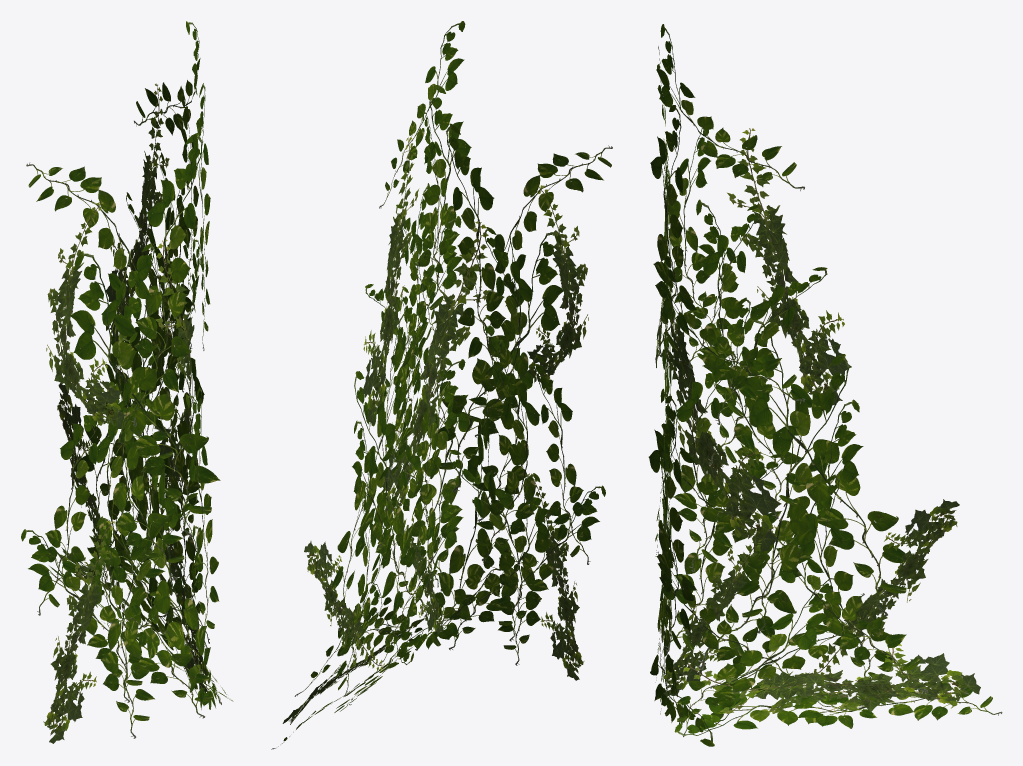
Rendered from SM_Prop_Ivy_Corner_02.fbx.
3 views of the same model, side by side, from view 1: azimuth 30°, elevation 25°; view 2: azimuth 150°, elevation 25°; view 3: azimuth 270°, elevation 25° (orthographic). The views are drawn at different scales.
Parts seen in each view (by area): view 1: SM_Prop_Ivy_Corner_02_LOD0; view 2: SM_Prop_Ivy_Corner_02_LOD0; view 3: SM_Prop_Ivy_Corner_02_LOD0.
Boxes of the visible parts, bbox=[...] form: SM_Prop_Ivy_Corner_02_LOD0: bbox=[21, 21, 233, 743]; SM_Prop_Ivy_Corner_02_LOD0: bbox=[271, 21, 612, 749]; SM_Prop_Ivy_Corner_02_LOD0: bbox=[648, 24, 1002, 746].
Bounding box in the file's own units: 86.42 × 119 × 256.
Materials: 1 (1 with a texture image).
